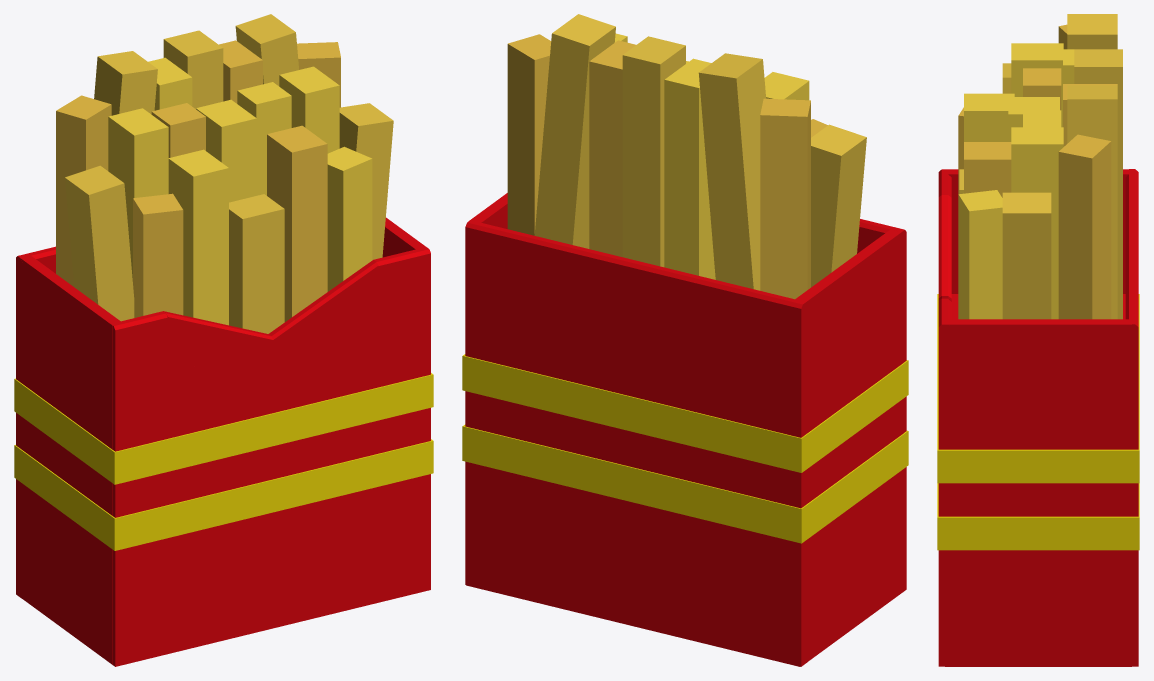
File: Fries.obj
3 renders of one model, left to right at view 1: azimuth 30°, elevation 25°; view 2: azimuth 150°, elevation 25°; view 3: azimuth 270°, elevation 25°, orthographic. The views are drawn at different scales.
Parts seen in each view (by area): view 1: Fries; view 2: Fries; view 3: Fries.
Part boxes in pixels (x1,y1,x2,y2): Fries: [14, 14, 433, 666]; Fries: [462, 14, 908, 666]; Fries: [937, 14, 1139, 666].
Bounding box in the file's own units: 0.5641 × 0.8937 × 0.3078.
